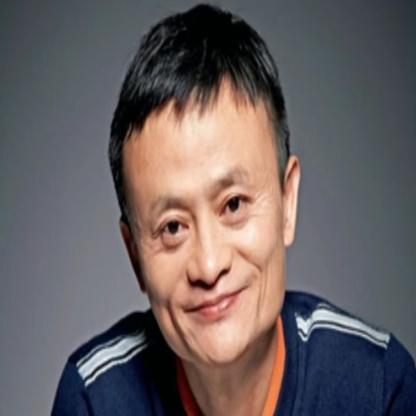person: (110, 0, 302, 373)
